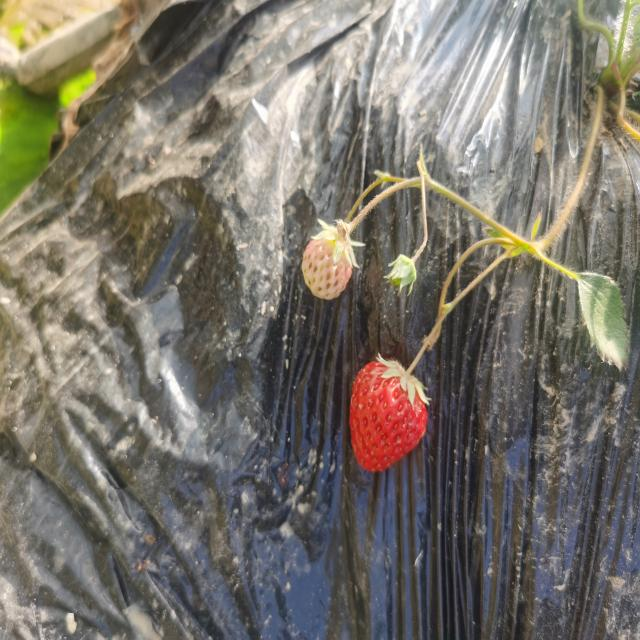stem: (402, 341, 428, 381)
strawberry: (350, 359, 428, 471)
